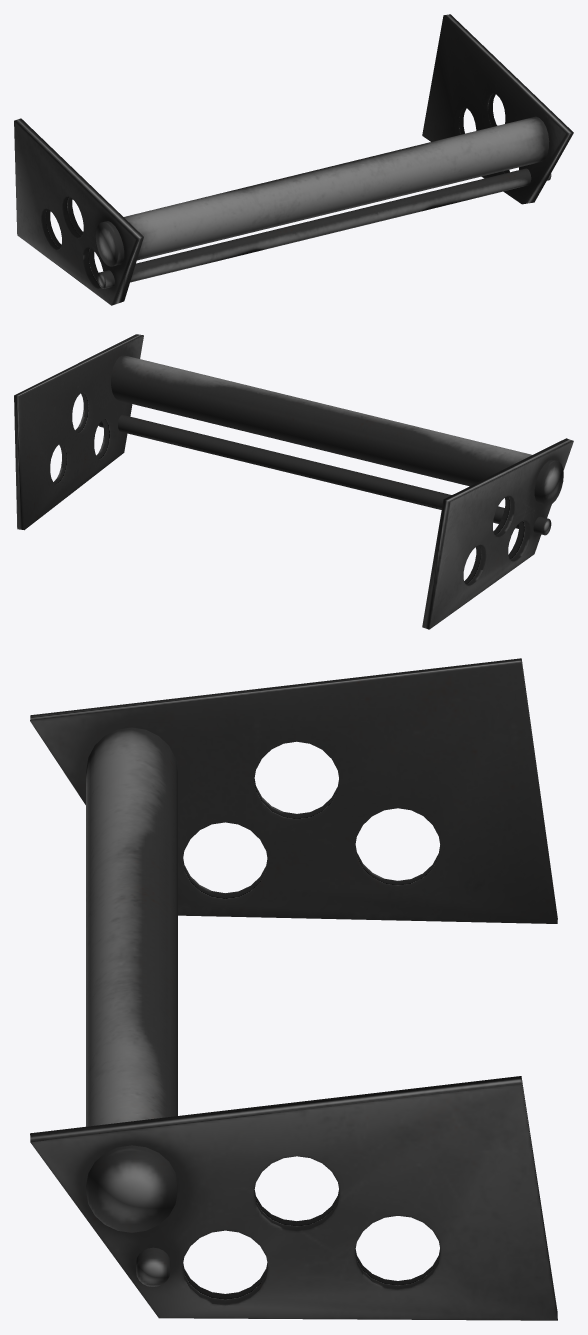
File: Vital_part2.gltf
3 views of the same model, one above another, from view 1: azimuth 30°, elevation 25°; view 2: azimuth 150°, elevation 25°; view 3: azimuth 270°, elevation 25° (orthographic). The views are drawn at different scales.
Visible parts, largest first — view 1: pCylinder6; view 2: pCylinder6; view 3: pCylinder6.
Boxes of the visible parts, left/top/right/bottom form: pCylinder6: left=14, top=14, right=573, bottom=305; pCylinder6: left=14, top=334, right=573, bottom=629; pCylinder6: left=30, top=658, right=557, bottom=1320.
Size of the model in its own units: 2.02 by 0.5402 by 1.03.
1 material, 1 textured.
